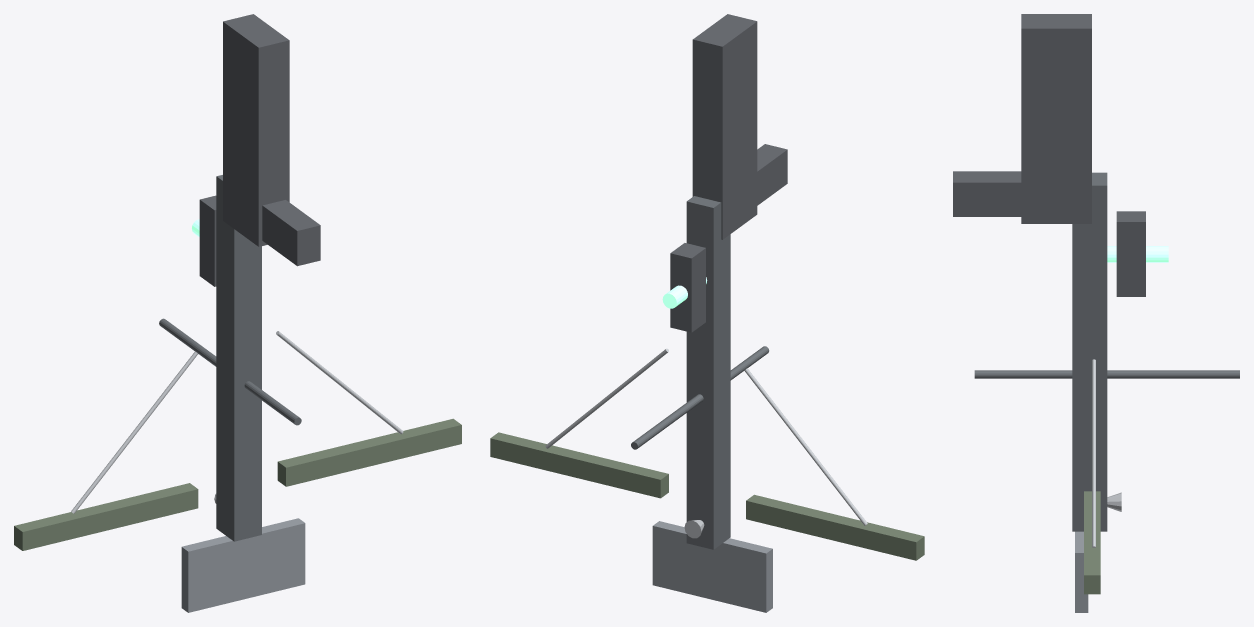
The model's file is crossbow.glb.
3 renders of one model, left to right at view 1: azimuth 30°, elevation 25°; view 2: azimuth 150°, elevation 25°; view 3: azimuth 270°, elevation 25°, orthographic. The views are drawn at different scales.
Visible parts, largest first — view 1: Weapon_Crossbow; view 2: Weapon_Crossbow; view 3: Weapon_Crossbow.
Part boxes in pixels (x1,y1,x2,y2): Weapon_Crossbow: (14,14,461,612); Weapon_Crossbow: (490,14,924,612); Weapon_Crossbow: (953,14,1239,612).
Bounding box in the file's own units: 0.6 × 0.75 × 0.346.
